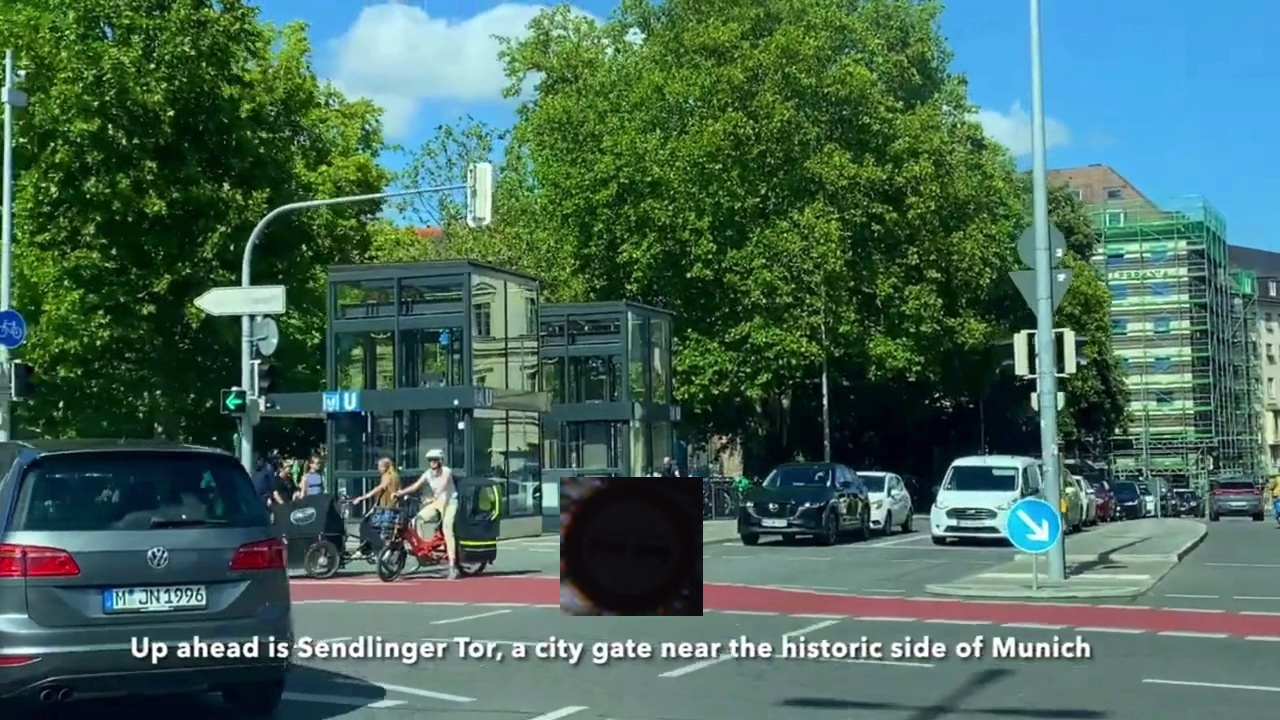No passing: (560, 477, 703, 616)
